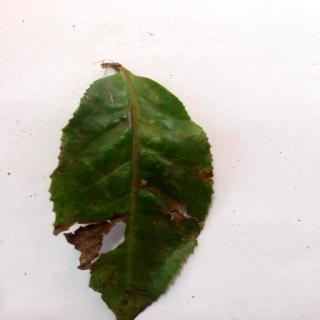Algal Leaf: (52, 63, 214, 320)
